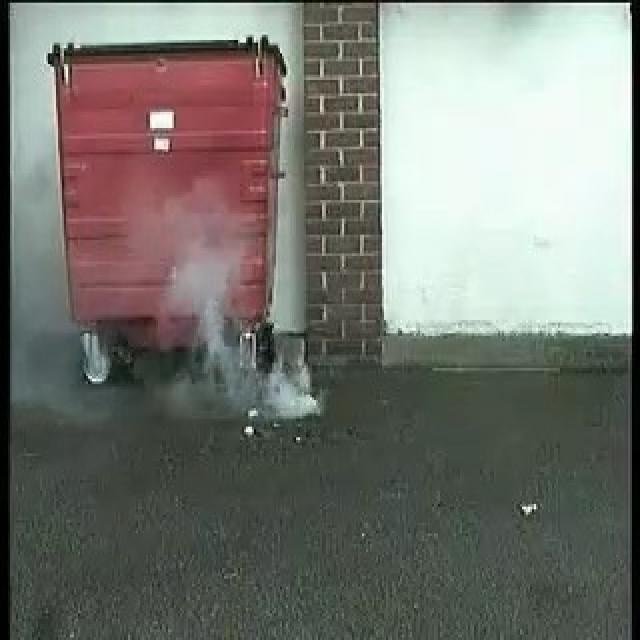smoke: (173, 236, 318, 424)
